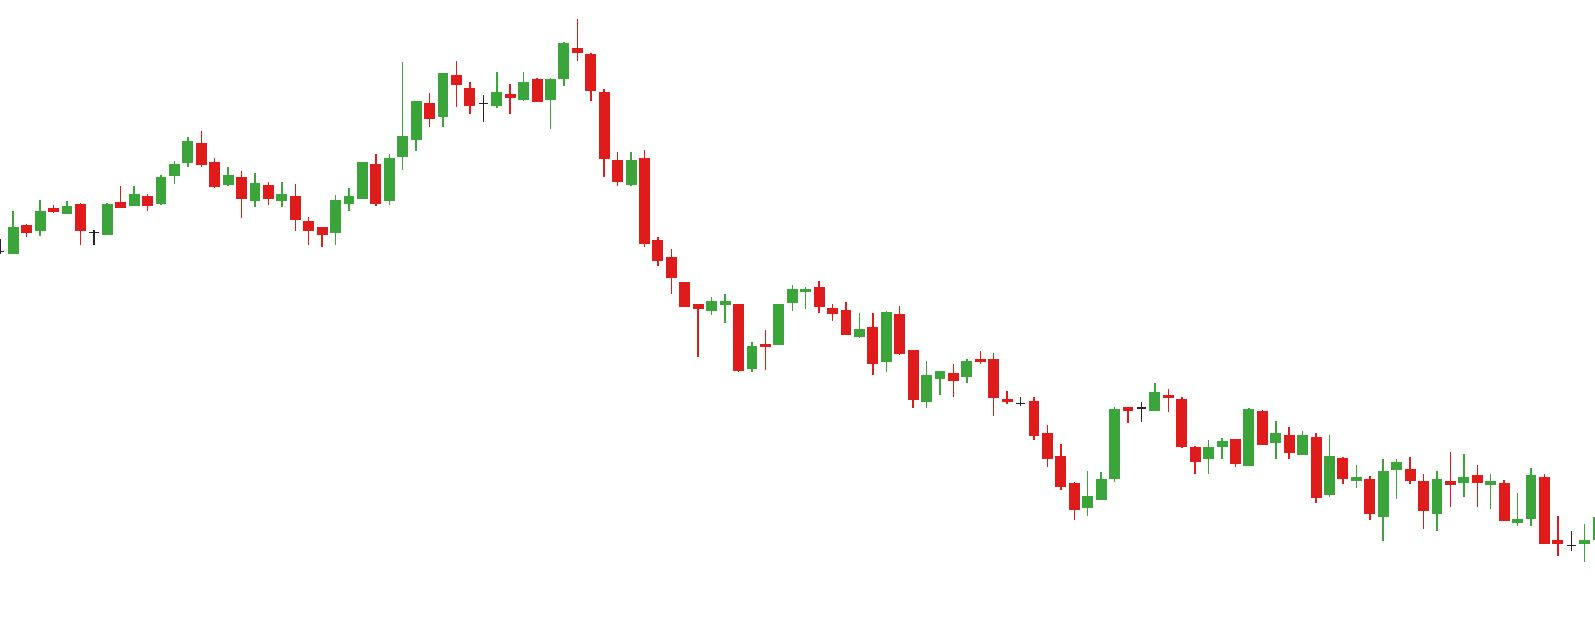sell: (489, 17, 586, 107), (704, 279, 828, 345)
